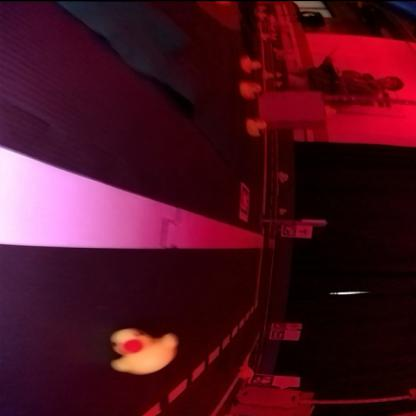Duckie: (113, 328, 178, 374), (240, 81, 262, 99), (248, 118, 266, 136), (242, 58, 262, 73), (239, 366, 253, 379), (280, 172, 289, 180), (280, 209, 288, 212)
Intersection sign: (299, 226, 311, 236)
QR code: (240, 183, 251, 221), (253, 374, 273, 385), (284, 226, 296, 236), (273, 331, 283, 339), (275, 322, 285, 327)
